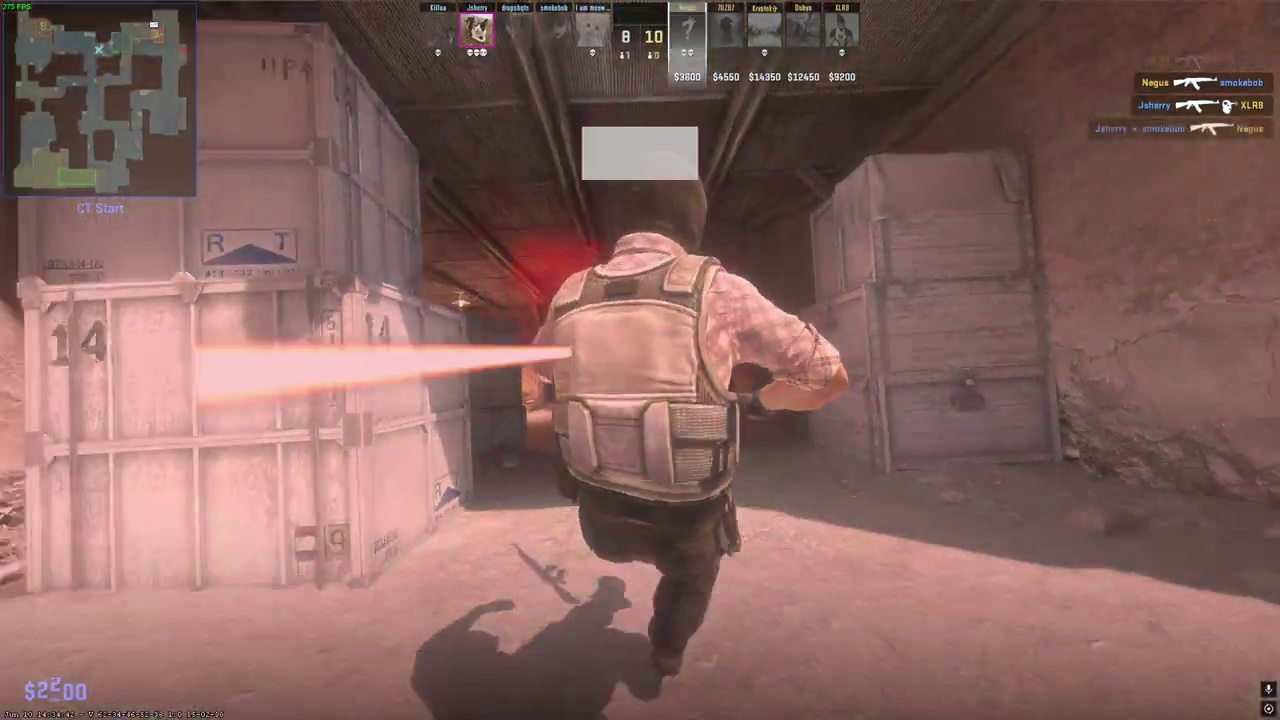Terrorist: (542, 161, 785, 673)
